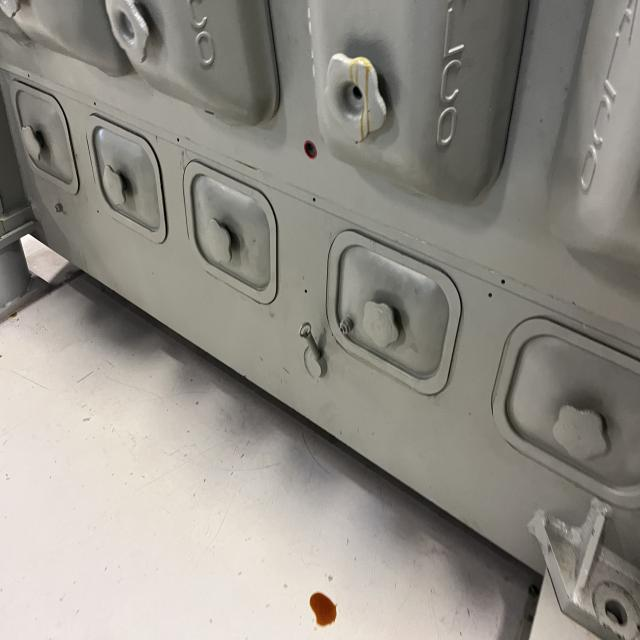Oil Leak: (349, 57, 374, 143), (307, 588, 341, 628)
